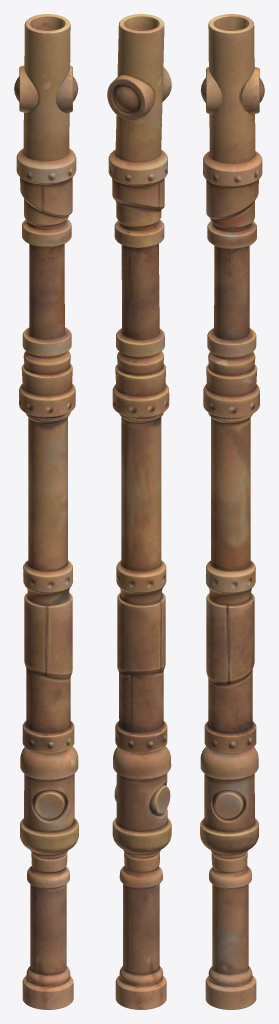
The model's file is Pipe02.fbx.
3 renders of one model, left to right at view 1: azimuth 90°, elevation 25°; view 2: azimuth 150°, elevation 25°; view 3: azimuth 270°, elevation 25°, orthographic.
Parts seen in each view (by area): view 1: Pipe2_LOD00; view 2: Pipe2_LOD00; view 3: Pipe2_LOD00.
Part boxes in pixels (box(x1,y1,x2,y2)): Pipe2_LOD00: box(14, 14, 78, 1009); Pipe2_LOD00: box(107, 14, 171, 1009); Pipe2_LOD00: box(200, 14, 264, 1009).
Size of what is drawn, in the model's own units: 100 by 1743 by 105.
